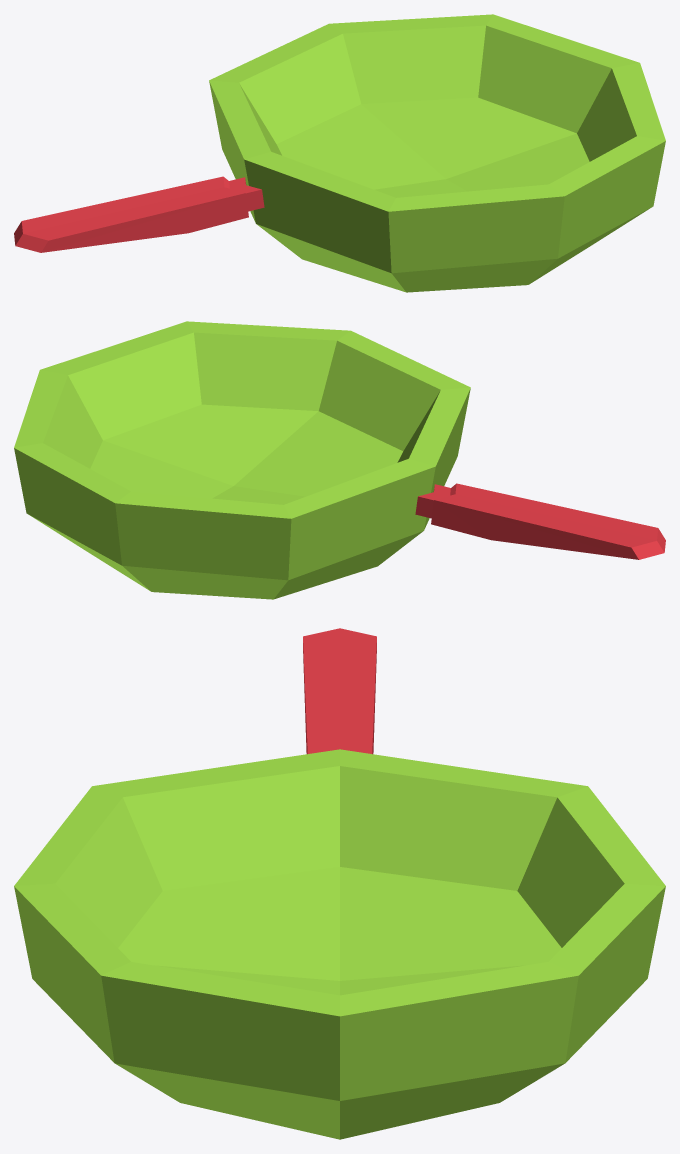
Rendered from frying pan.fbx.
The picture shows the model from 3 angles, top to bottom: view 1: azimuth 30°, elevation 25°; view 2: azimuth 150°, elevation 25°; view 3: azimuth 270°, elevation 25°; orthographic projection. The views are drawn at different scales.
Parts seen in each view (by area): view 1: pan, handle; view 2: pan, handle; view 3: pan, handle.
Boxes of the visible parts, x1,y1,x2,y2 form: pan: [209, 14, 665, 292]; handle: [14, 176, 264, 252]; pan: [14, 321, 470, 599]; handle: [415, 483, 665, 559]; pan: [14, 749, 665, 1139]; handle: [303, 628, 376, 754].
Size of the model in its own units: 281 by 49.69 by 184.
